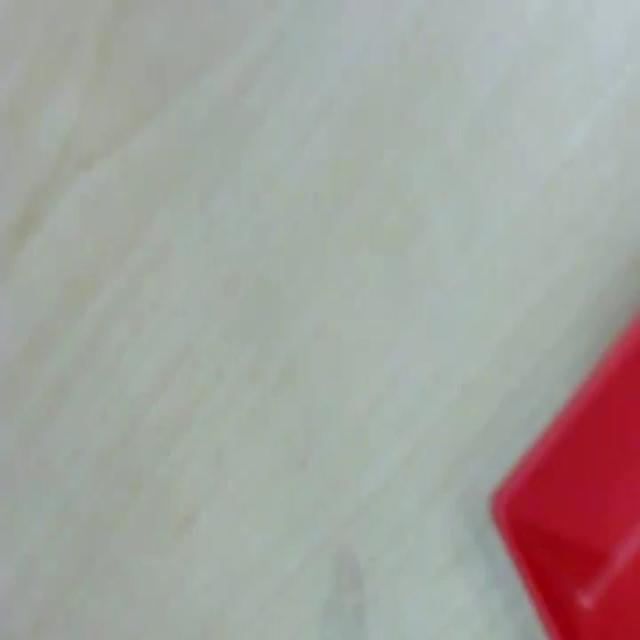red_block: (488, 310, 638, 638)
